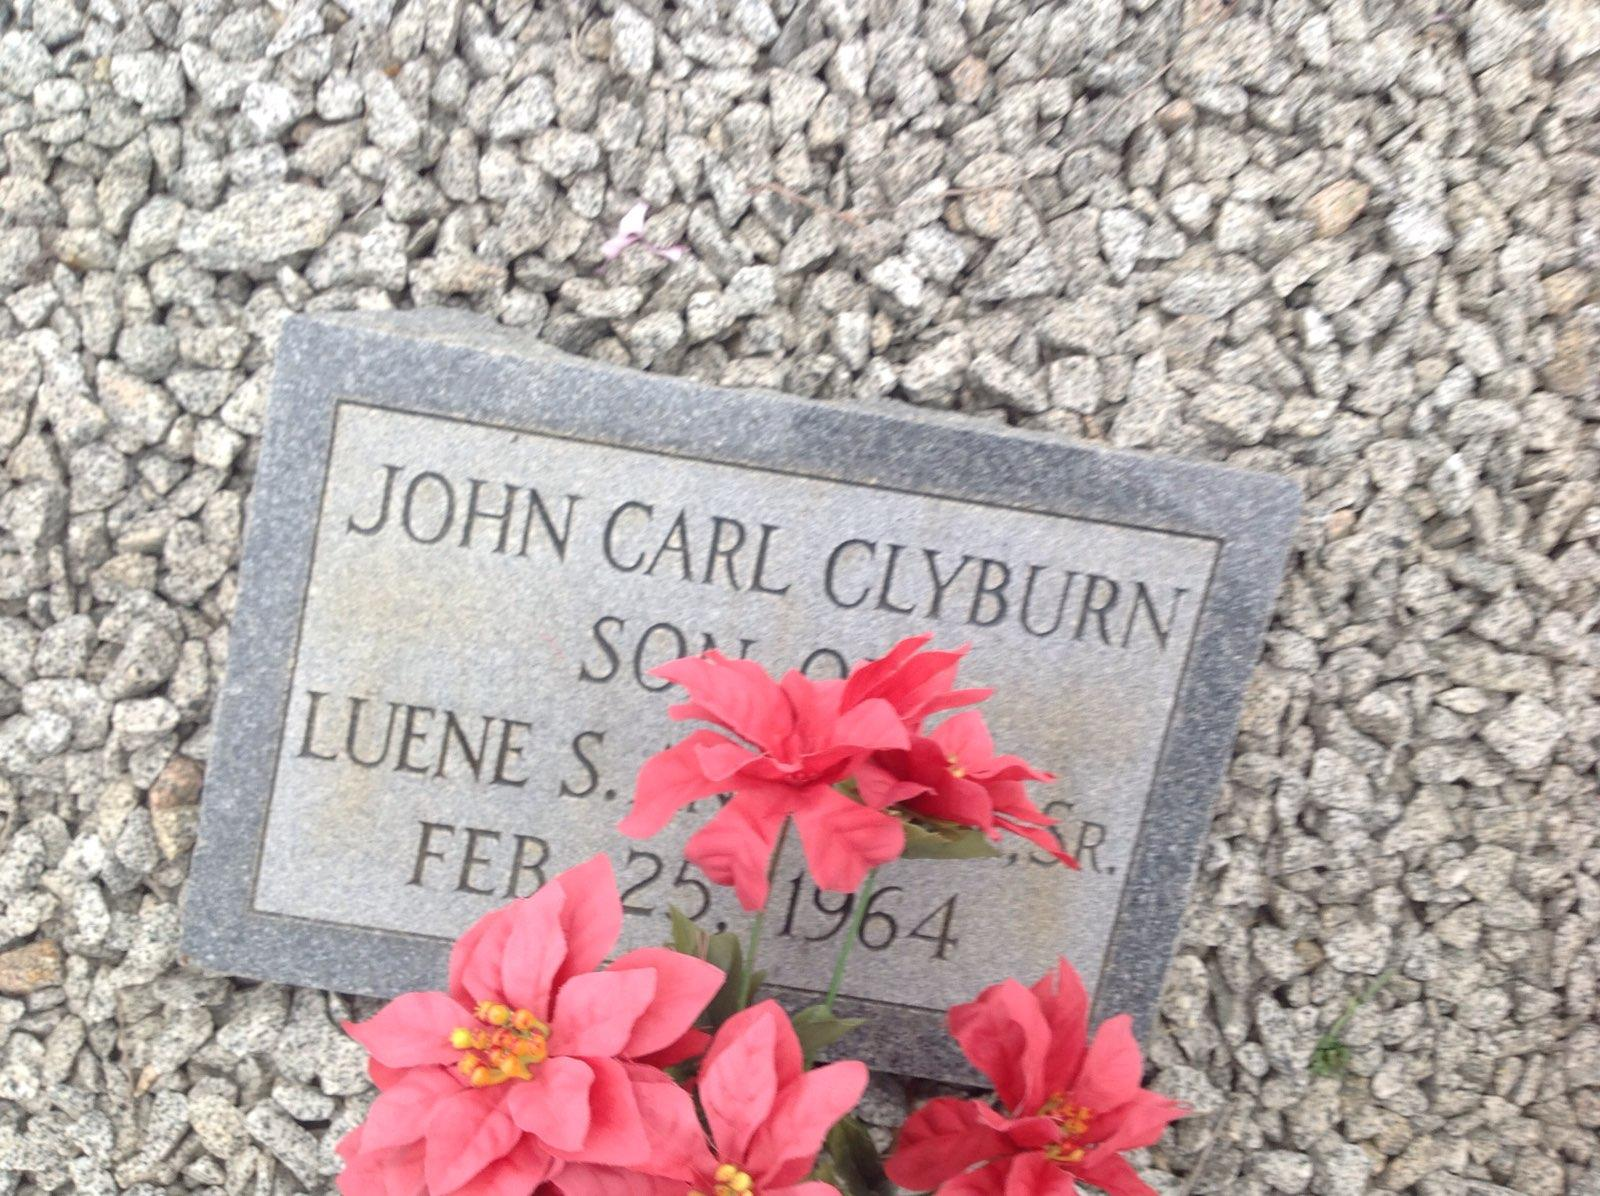flat: (177, 307, 1306, 1119)
